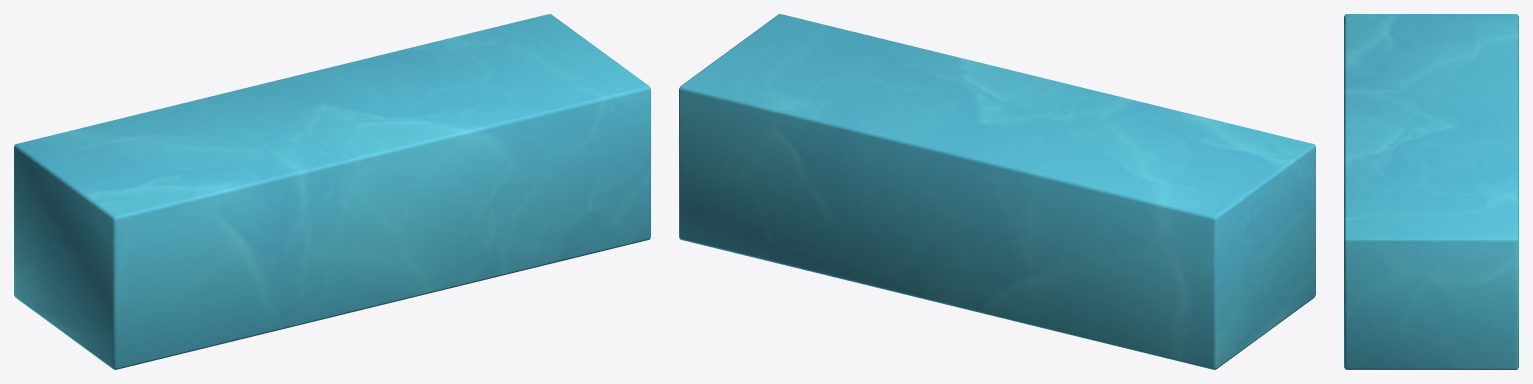
Rendered from SM_RunFloorIce01.fbx.
3 views of the same model, side by side, from view 1: azimuth 30°, elevation 25°; view 2: azimuth 150°, elevation 25°; view 3: azimuth 270°, elevation 25° (orthographic). The views are drawn at different scales.
Parts seen in each view (by area): view 1: SM_RunFloorIce01; view 2: SM_RunFloorIce01; view 3: SM_RunFloorIce01.
Boxes of the visible parts, bbox=[...] form: SM_RunFloorIce01: bbox=[14, 14, 650, 369]; SM_RunFloorIce01: bbox=[679, 14, 1315, 369]; SM_RunFloorIce01: bbox=[1344, 14, 1518, 369].
Size of the model in its own units: 1529 by 419 by 500.
